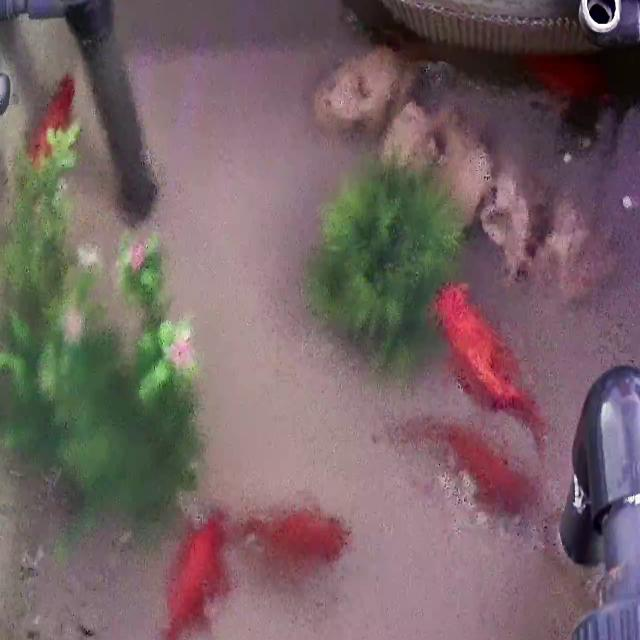fish: (436, 284, 546, 422), (413, 419, 542, 516), (156, 504, 231, 640), (238, 505, 352, 568), (28, 73, 78, 162), (523, 52, 609, 102)
